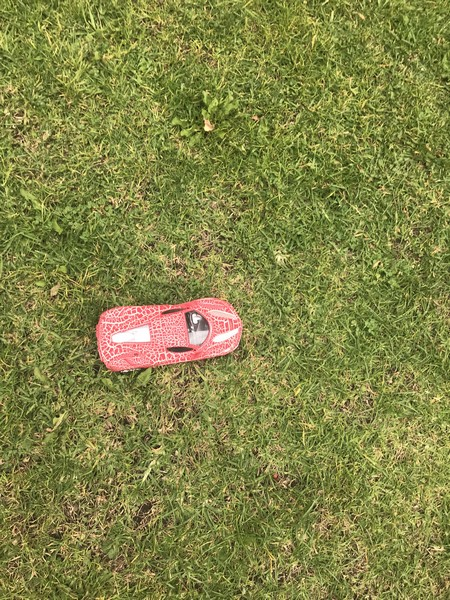RC: (95, 296, 246, 375)
